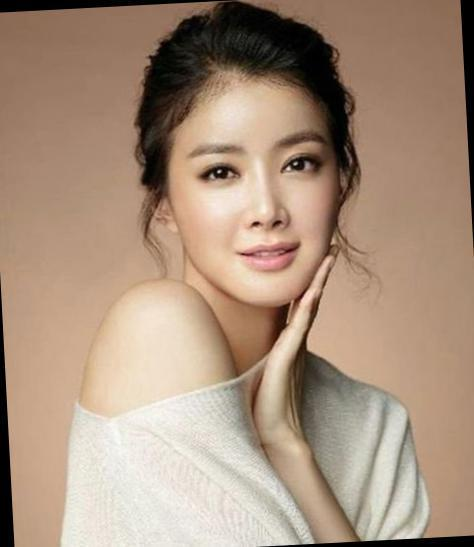Sober: (173, 88, 336, 294)
